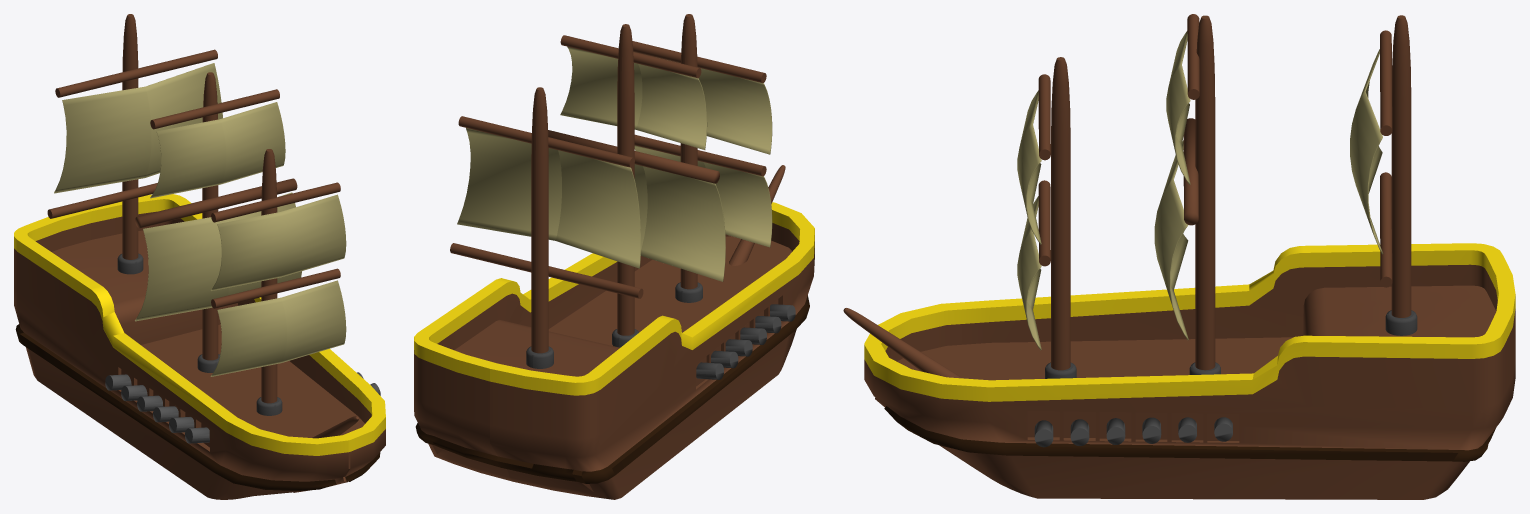
File: Test_Ship_07.fbx
The picture shows the model from 3 angles, left to right: view 1: azimuth 30°, elevation 25°; view 2: azimuth 150°, elevation 25°; view 3: azimuth 270°, elevation 25°; orthographic projection. The views are drawn at different scales.
Visible parts, largest first — view 1: Cylinder.020; view 2: Cylinder.020; view 3: Cylinder.020.
Boxes of the visible parts, left/top/right/bottom form: Cylinder.020: left=14, top=14, right=385, bottom=499; Cylinder.020: left=414, top=14, right=814, bottom=499; Cylinder.020: left=843, top=14, right=1515, bottom=499.
Bounding box in the file's own units: 2.32 × 4 × 5.56.
